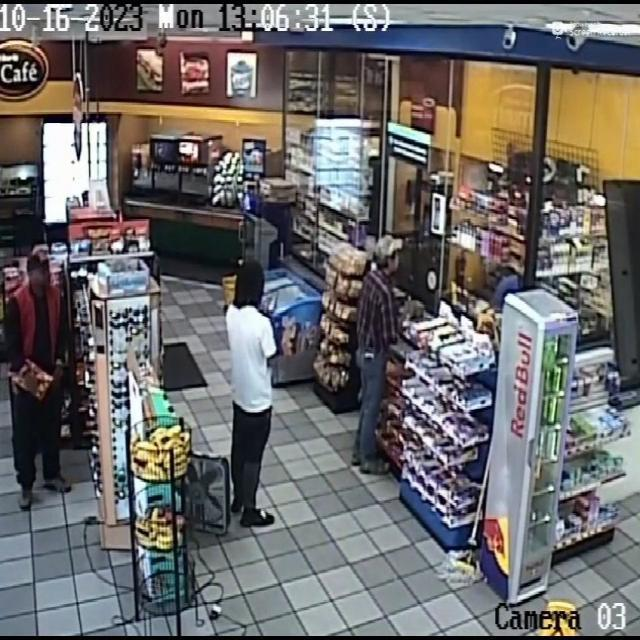Normal: (213, 262, 288, 538), (3, 247, 80, 515), (350, 236, 410, 482)
